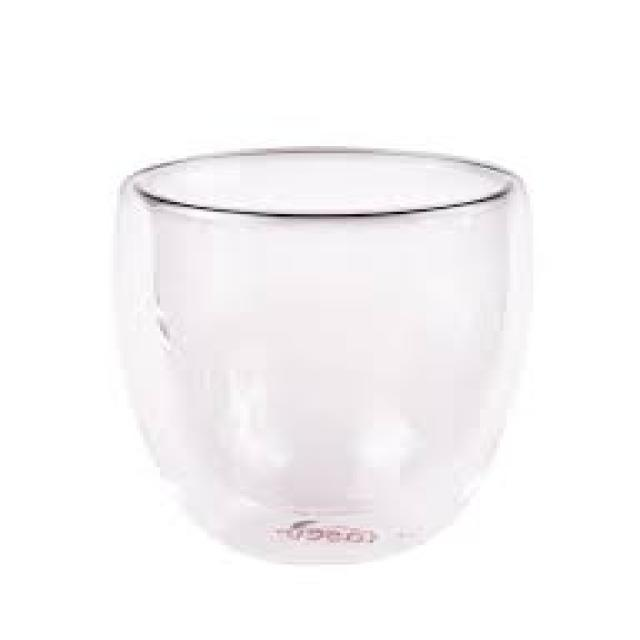Dry: (109, 143, 539, 565)
